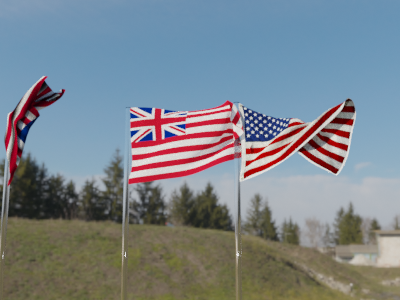America flag: (240, 96, 360, 181)
Liberia flag: (2, 74, 69, 187)
Malaysia flag: (127, 98, 234, 193)
